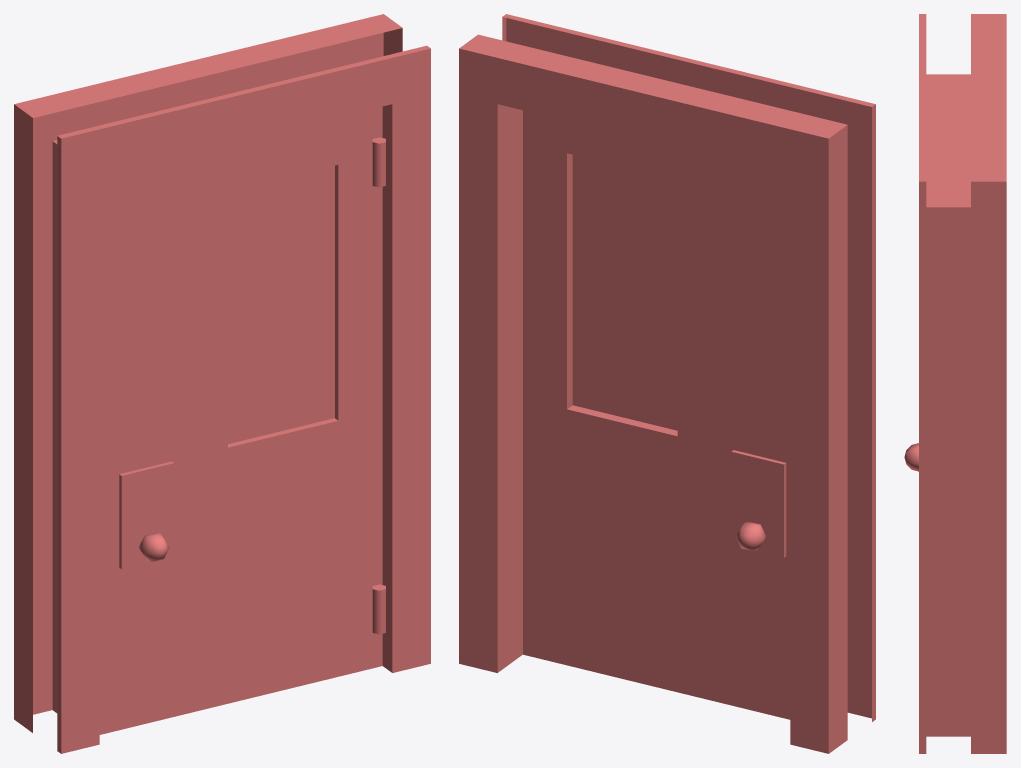
The model's file is Door_Plain.fbx.
3 views of the same model, side by side, from view 1: azimuth 30°, elevation 25°; view 2: azimuth 150°, elevation 25°; view 3: azimuth 270°, elevation 25° (orthographic). The views are drawn at different scales.
Parts seen in each view (by area): view 1: Door_Geo, Door_Frame_Geo; view 2: Door_Geo, Door_Frame_Geo; view 3: Door_Frame_Geo, Door_Geo, Handle1_Geo.
Part boxes in pixels (x1,y1,x2,y2): Door_Geo: [99, 106, 382, 734]; Door_Frame_Geo: [14, 14, 430, 753]; Door_Geo: [523, 110, 790, 719]; Door_Frame_Geo: [459, 14, 875, 753]; Door_Frame_Geo: [919, 14, 1006, 753]; Door_Geo: [937, 74, 959, 701]; Handle1_Geo: [904, 443, 918, 471].
Size of the model in its own units: 1.27 by 2.02 by 0.327.
